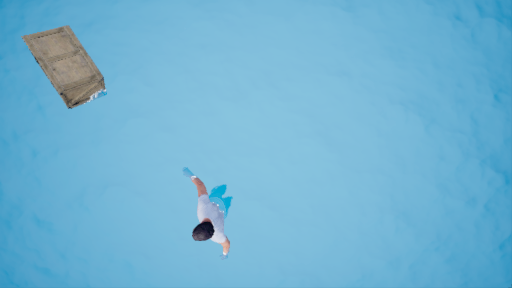person: (162, 169, 245, 273)
